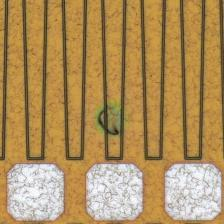PIQ PARTICLE: (90, 100, 130, 140)
